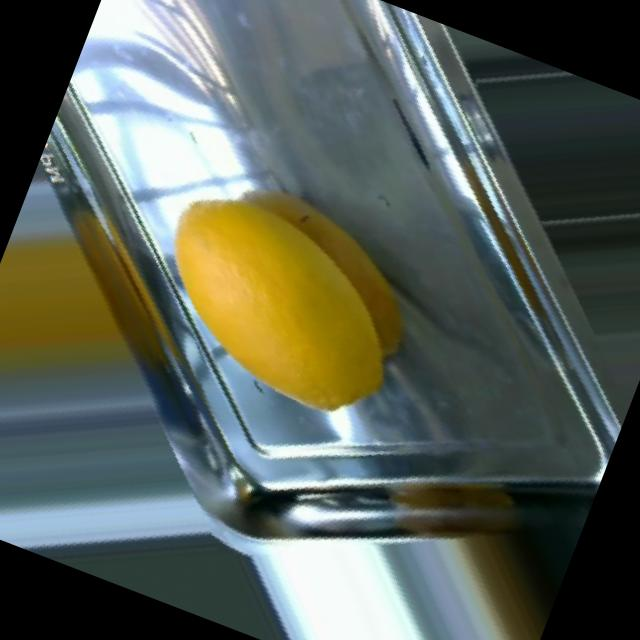Fruit: (205, 210, 457, 463)
